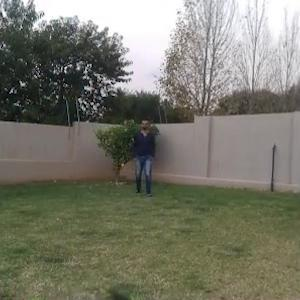follow: (134, 116, 156, 205)
